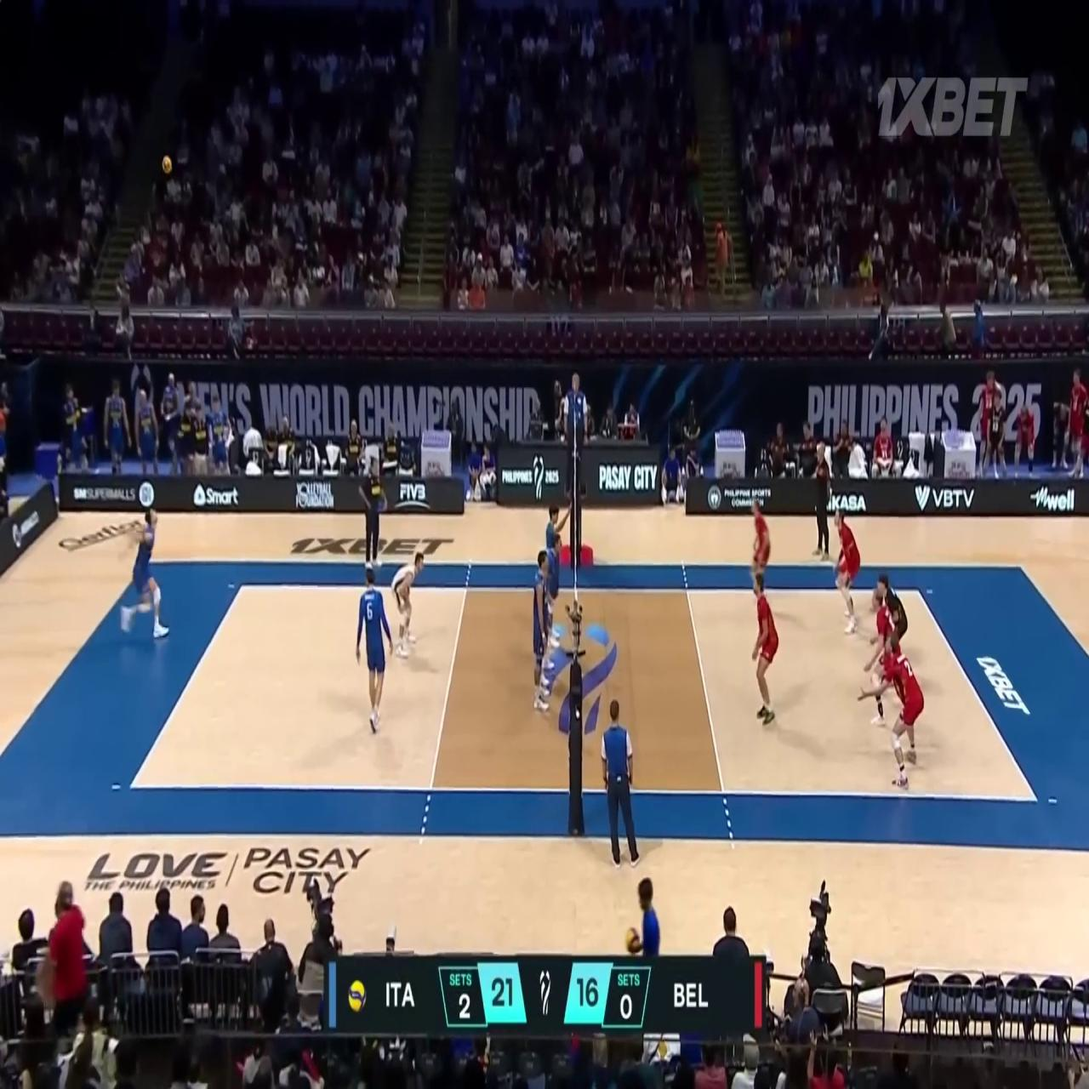ball: (162, 154, 172, 174)
